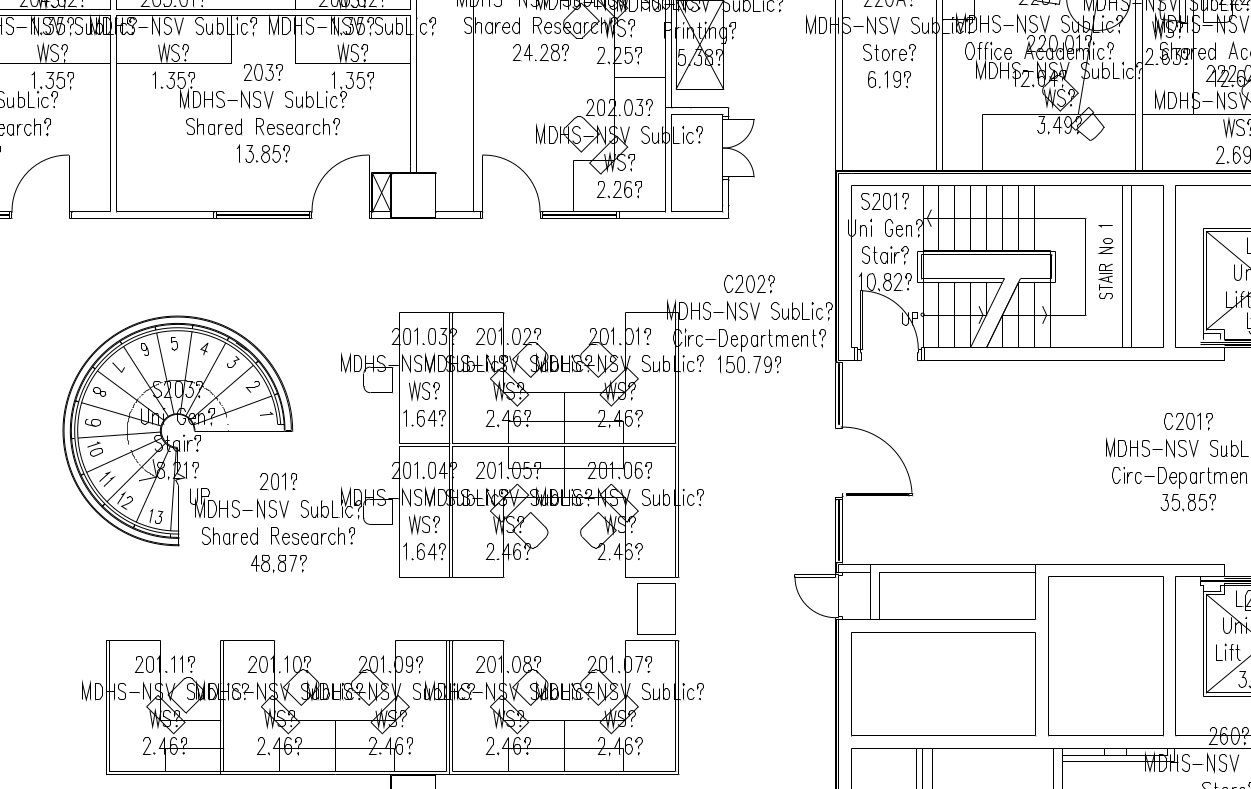door: (842, 422, 921, 504), (856, 287, 919, 363), (306, 148, 370, 216), (10, 146, 74, 214), (479, 150, 543, 218), (785, 565, 837, 629), (720, 116, 764, 183)
